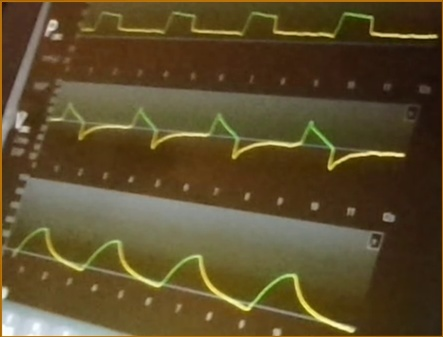Normal Flow: (50, 95, 404, 173)
Normal Volume: (10, 218, 355, 331)
